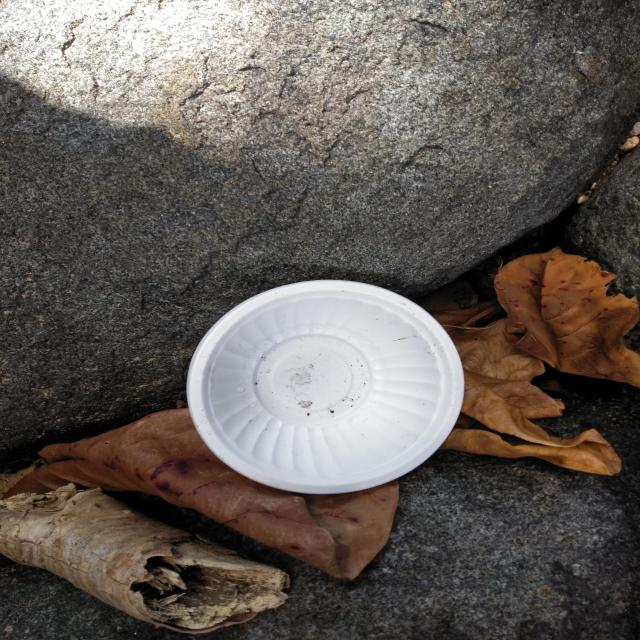litter: (184, 279, 468, 497)
